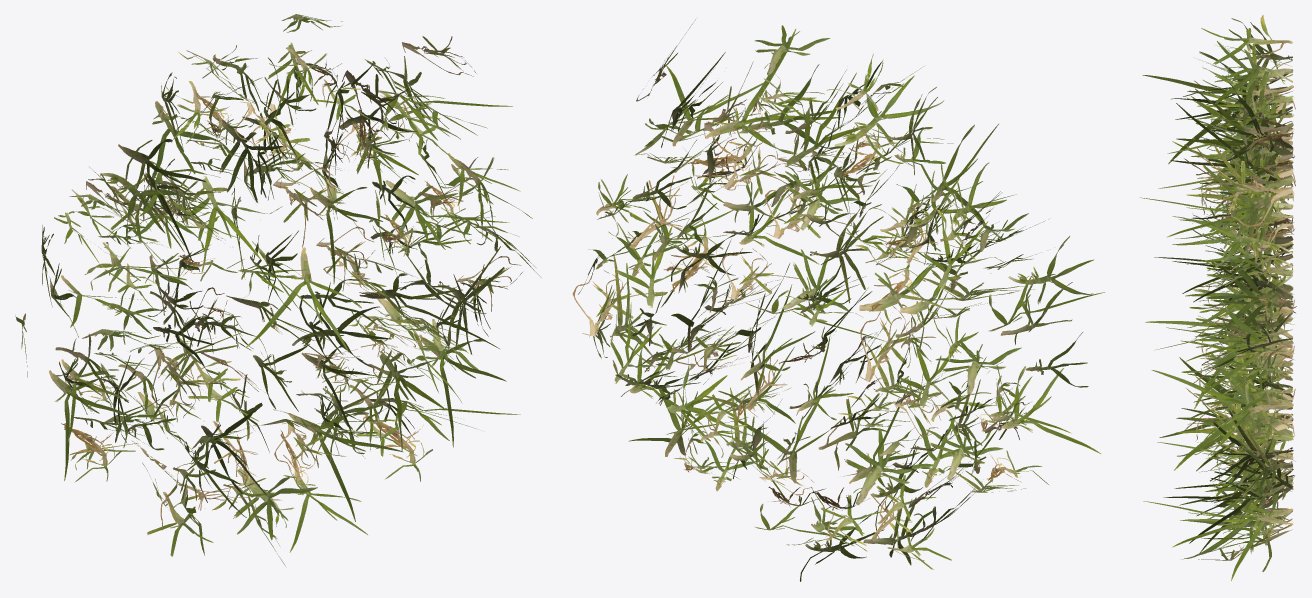
The model's file is Grass_01_Var1_LOD0.fbx.
3 renders of one model, left to right at view 1: azimuth 30°, elevation 25°; view 2: azimuth 150°, elevation 25°; view 3: azimuth 270°, elevation 25°, orthographic. The views are drawn at different scales.
Parts seen in each view (by area): view 1: Var1_LOD0; view 2: Var1_LOD0; view 3: Var1_LOD0.
Boxes of the visible parts, x1,y1,x2,y2 form: Var1_LOD0: (15,14,541,566); Var1_LOD0: (572,19,1105,581); Var1_LOD0: (1140,15,1296,581).
Size of the model in its own units: 85.22 by 85.32 by 23.73.
